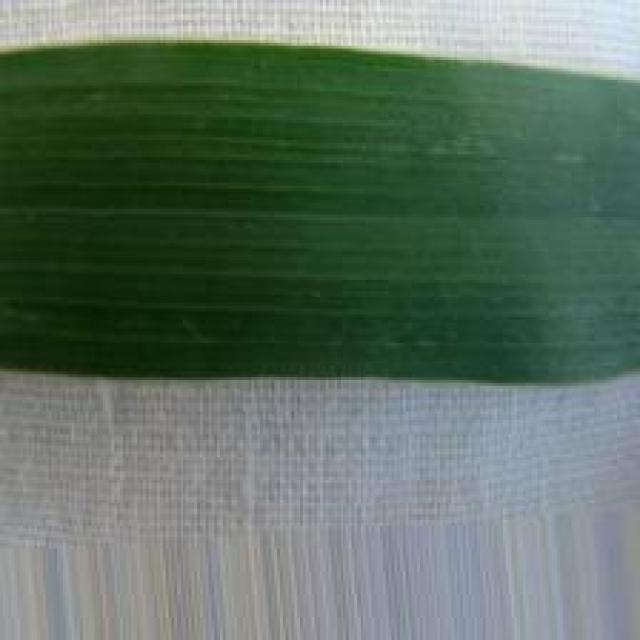Healthy: (2, 42, 640, 386)
